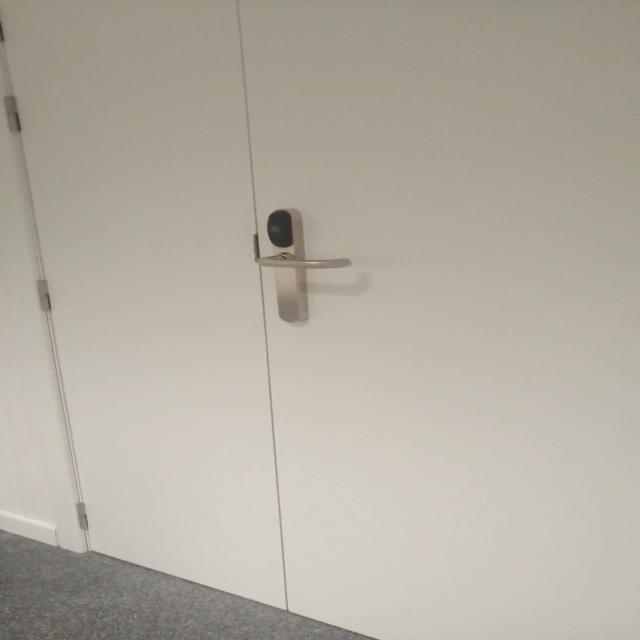door_handle: (253, 250, 359, 274)
